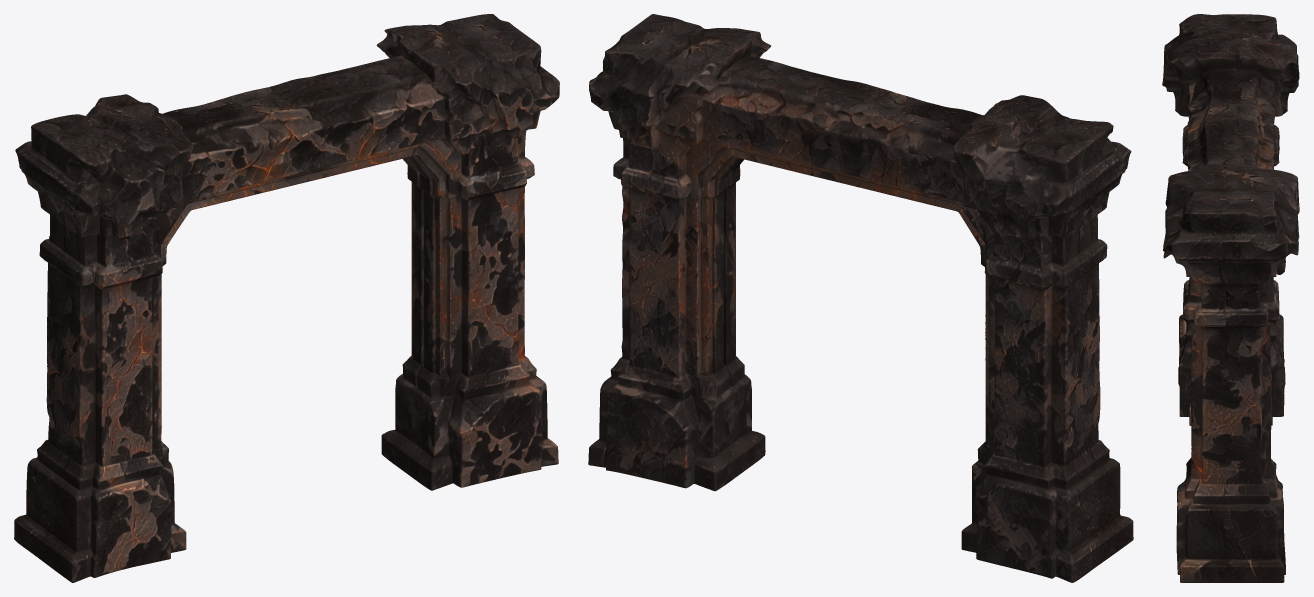
Rendered from Lava_DoorWay.fbx.
3 views of the same model, side by side, from view 1: azimuth 30°, elevation 25°; view 2: azimuth 150°, elevation 25°; view 3: azimuth 270°, elevation 25° (orthographic). The views are drawn at different scales.
Parts seen in each view (by area): view 1: model; view 2: model; view 3: model.
Part boxes in pixels (x1,y1,x2,y2): model: [14, 14, 559, 582]; model: [588, 14, 1133, 582]; model: [1162, 14, 1299, 582].
Bounding box in the file's own units: 190 × 159 × 52.9.
Materials: 1 (1 with a texture image).
